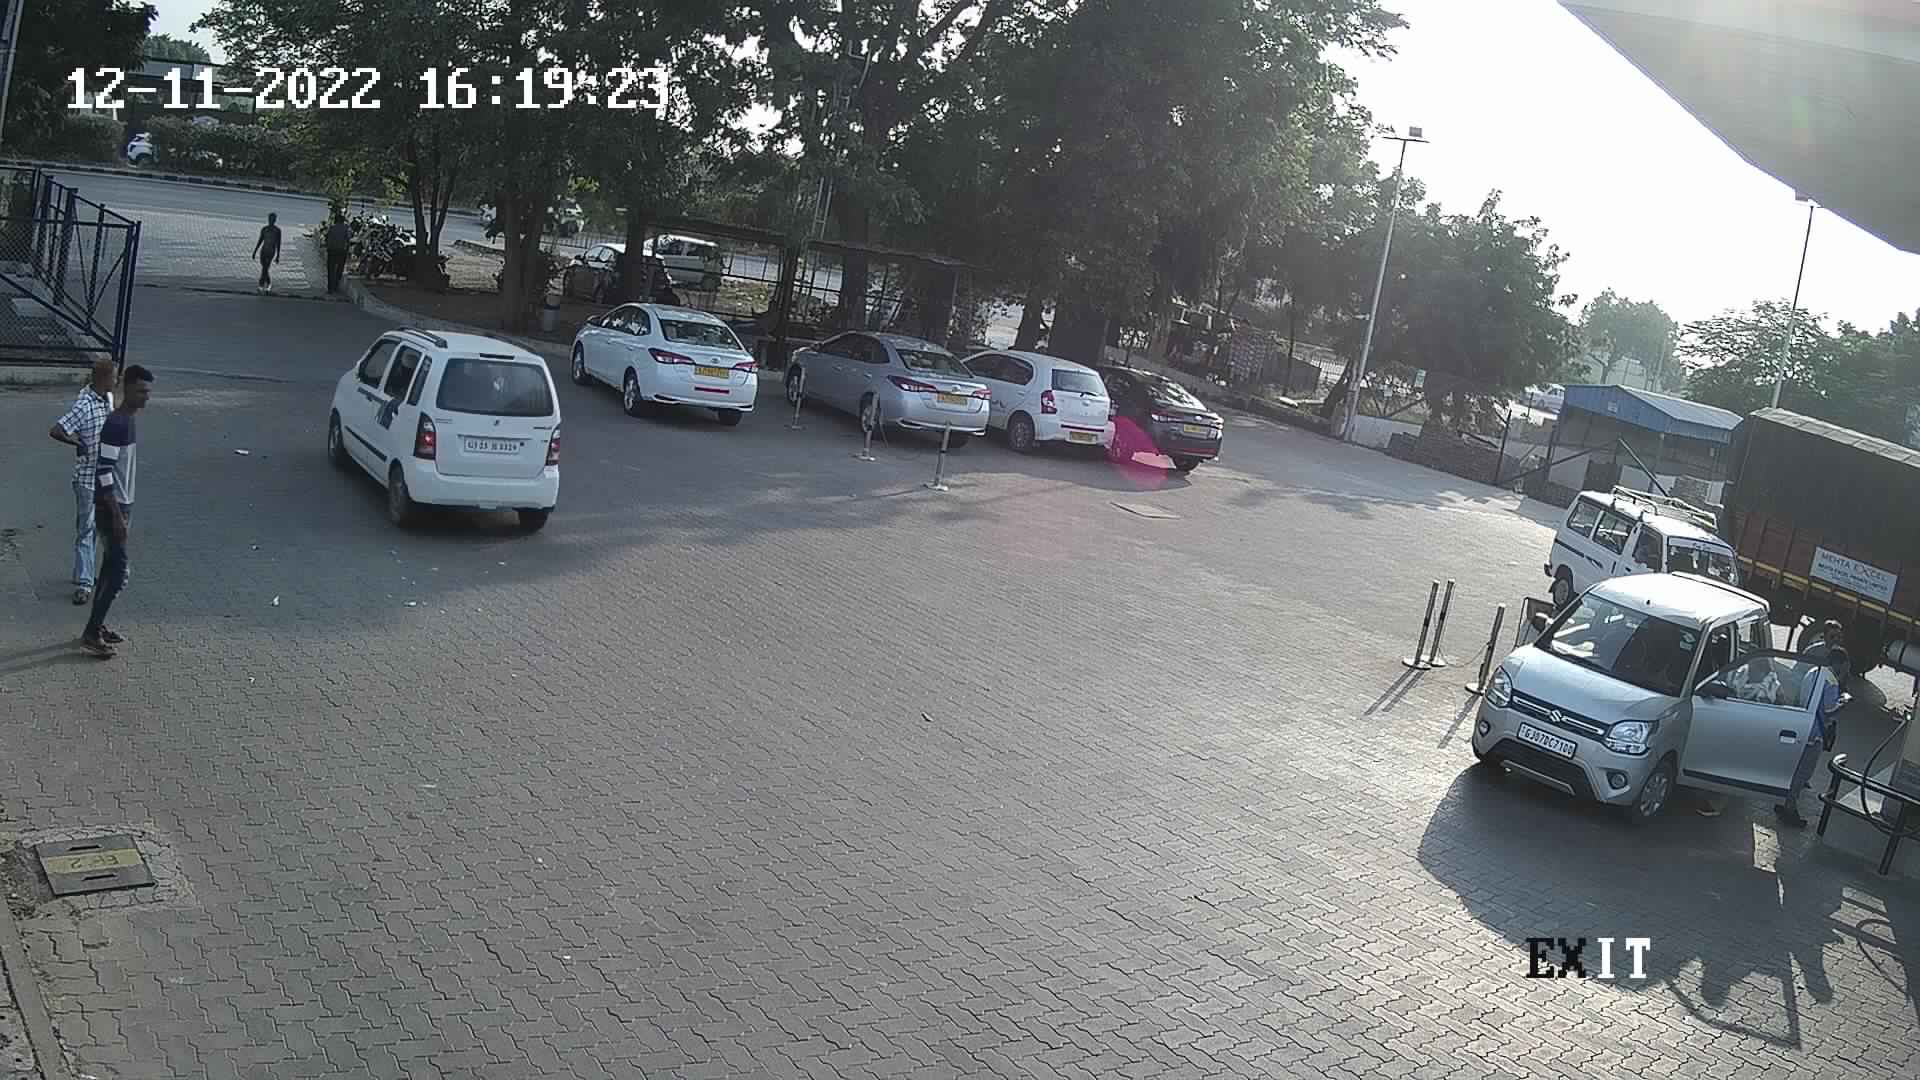Car: (1461, 558, 1845, 840), (311, 320, 583, 534), (1532, 476, 1749, 620), (786, 315, 1002, 450), (563, 289, 773, 423), (1072, 348, 1232, 471), (955, 345, 1120, 459), (554, 233, 641, 313), (641, 224, 731, 293)
HMV: (1698, 393, 1917, 683)
Others: (1774, 641, 1862, 831)
